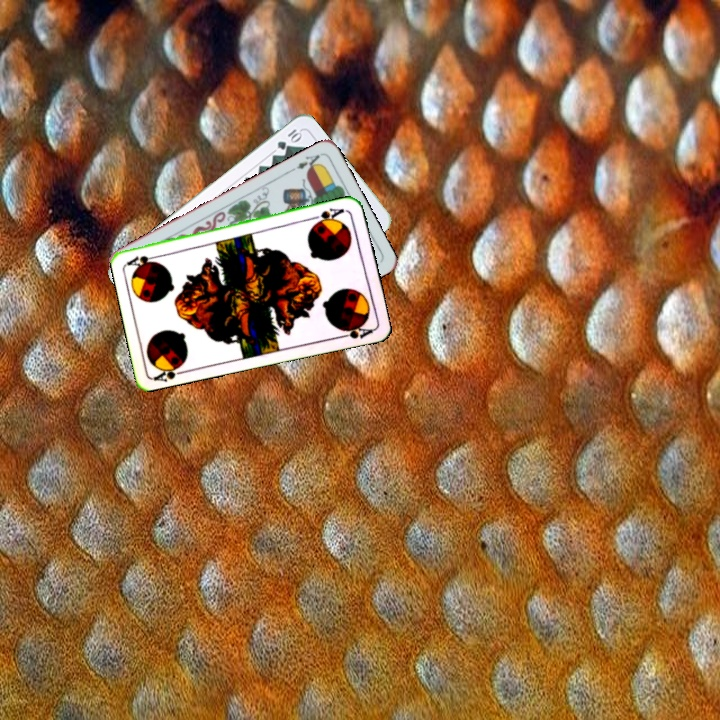EA: (292, 150, 324, 174)
G10: (273, 125, 304, 153)
SA: (150, 358, 190, 384), (309, 204, 349, 227)
